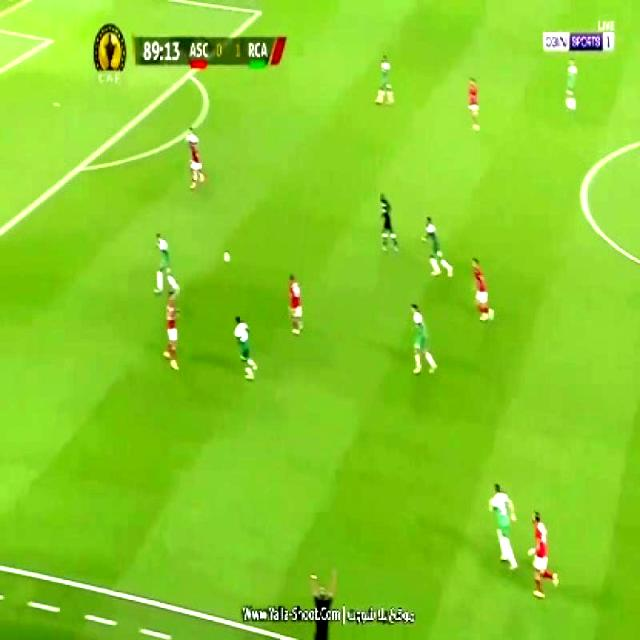bigarea_top_inner: (250, 0, 264, 22)
bottom_arc_area_intersection: (69, 156, 88, 178)
smallarea_top_inner: (40, 31, 57, 51)
top_arc_area_intersection: (180, 63, 197, 83)
